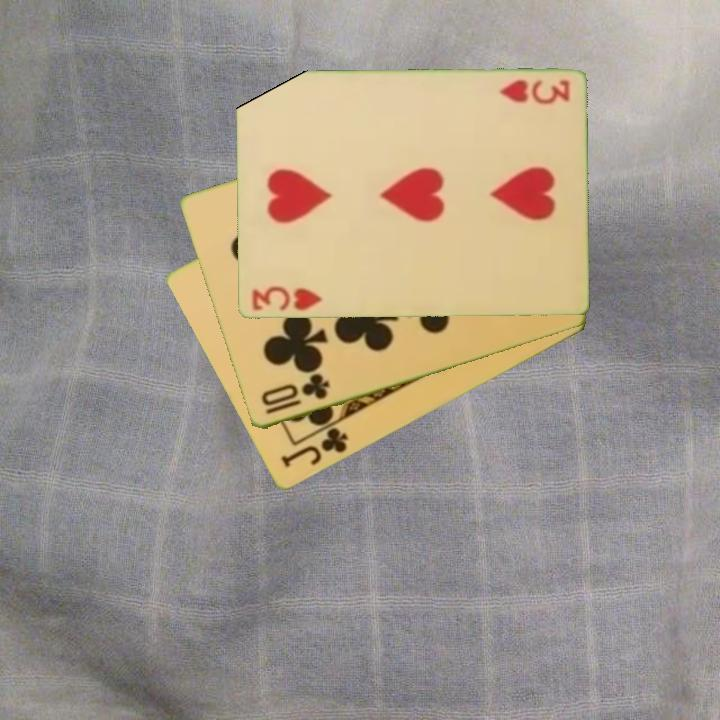10c: (257, 371, 332, 418)
3h: (247, 283, 324, 314), (495, 77, 572, 107)
Jc: (277, 424, 351, 471)
